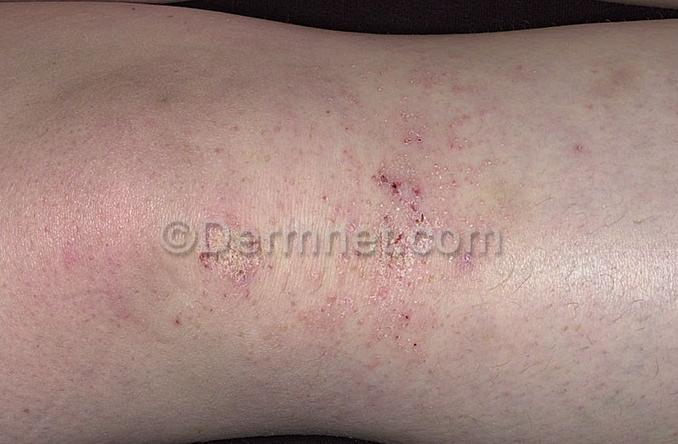edema 1: (388, 381, 678, 444)
eritema 1: (189, 116, 459, 362)
excoriacion 1: (323, 128, 452, 368), (184, 210, 275, 284)
exudacion 1: (335, 127, 463, 362), (189, 240, 228, 270)
xerosis 1: (162, 123, 495, 365)
